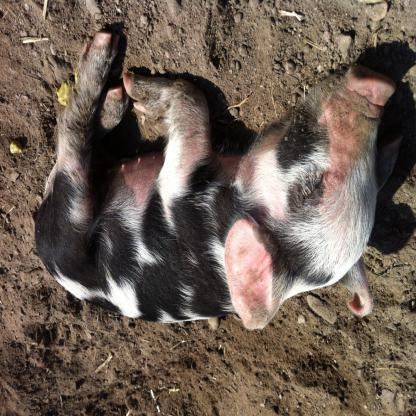boar: (31, 31, 396, 329)
